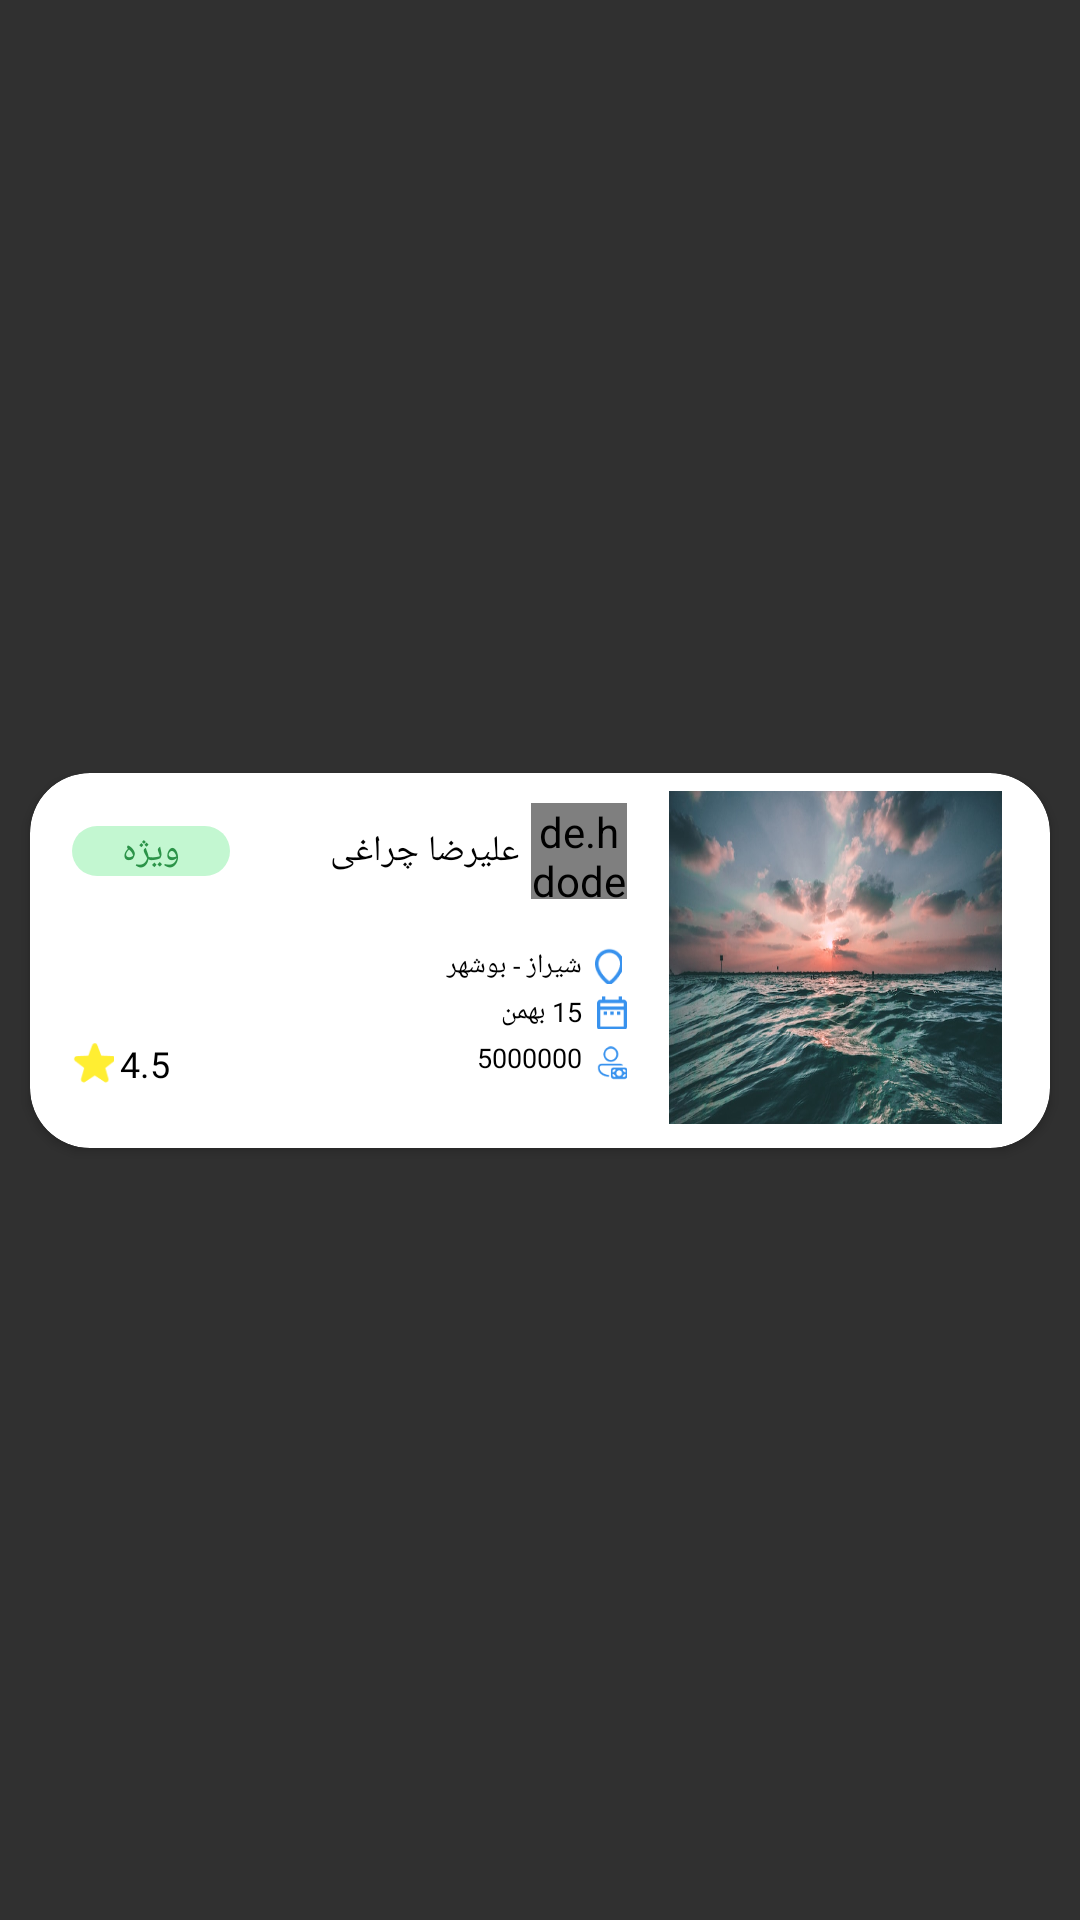

Icons on this 1080px x 1920px Android screen, each with the point to tap as (x=x, y=y):
date: (x=612, y=1012)
location: (x=608, y=966)
price: (x=612, y=1063)
star: (x=94, y=1063)
